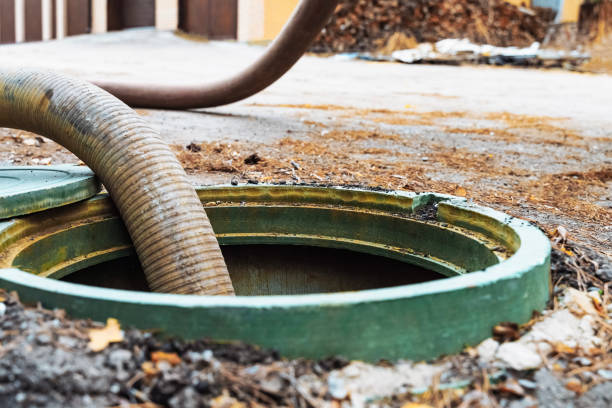open_manhole: (27, 182, 547, 361)
